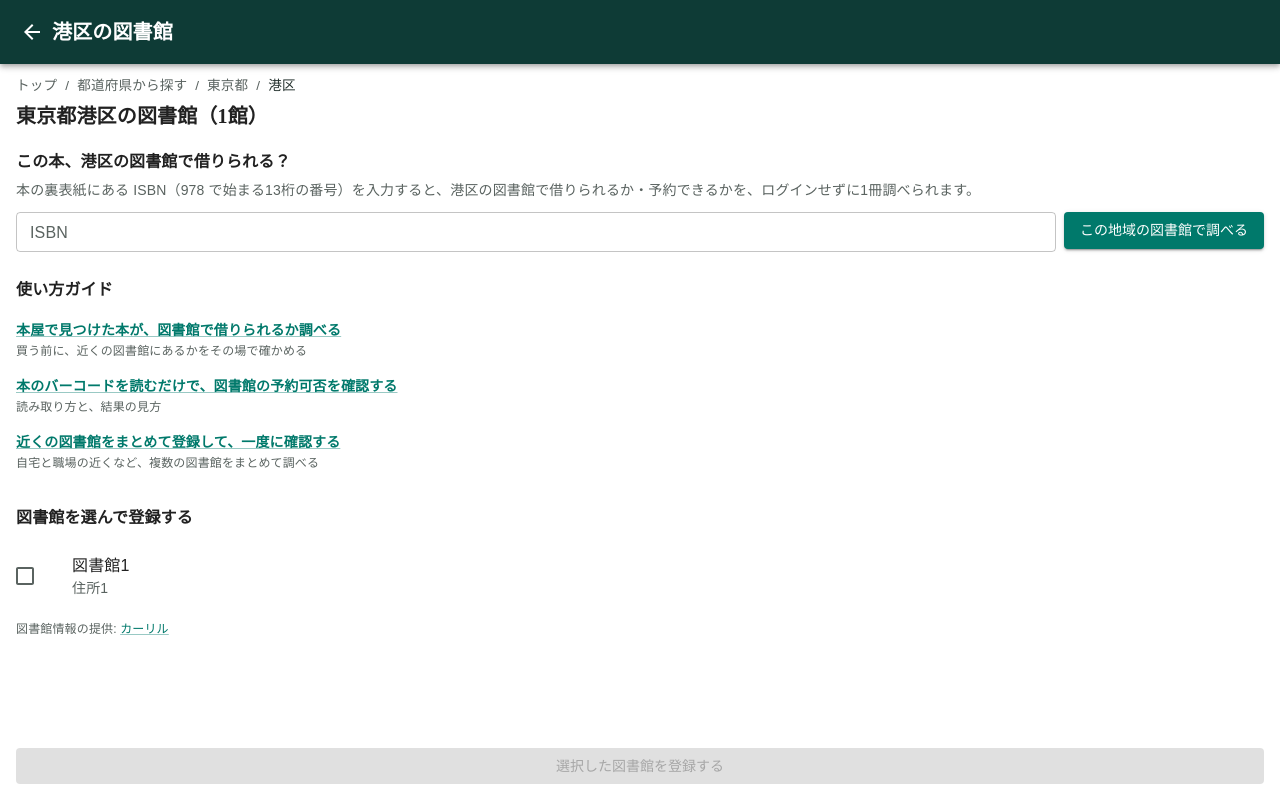
Scenario: LibraryListPage › can toggle library selection
The image size is (1280, 800).
Click the text "図書館1".
click(101, 566)  # box [72,557,130,574]
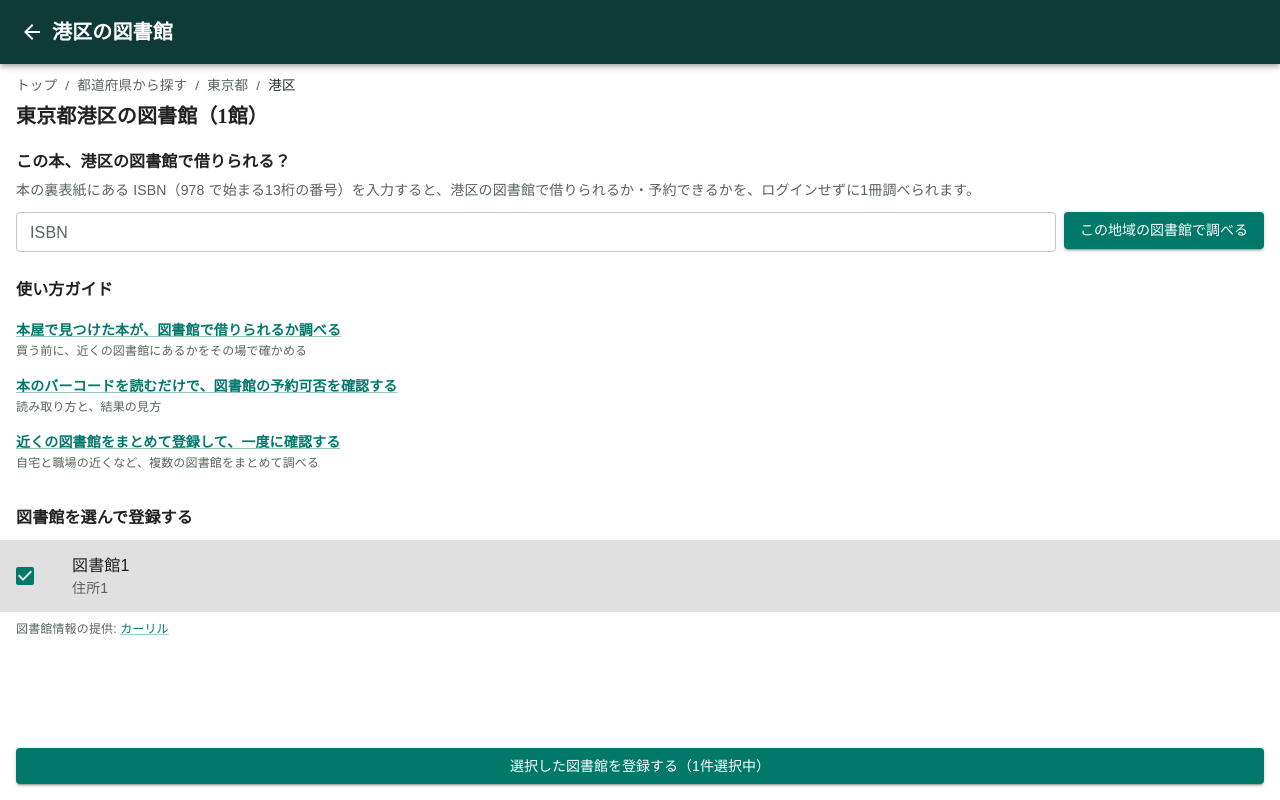
Result: the checkbox is checked at [13,564,37,588]
